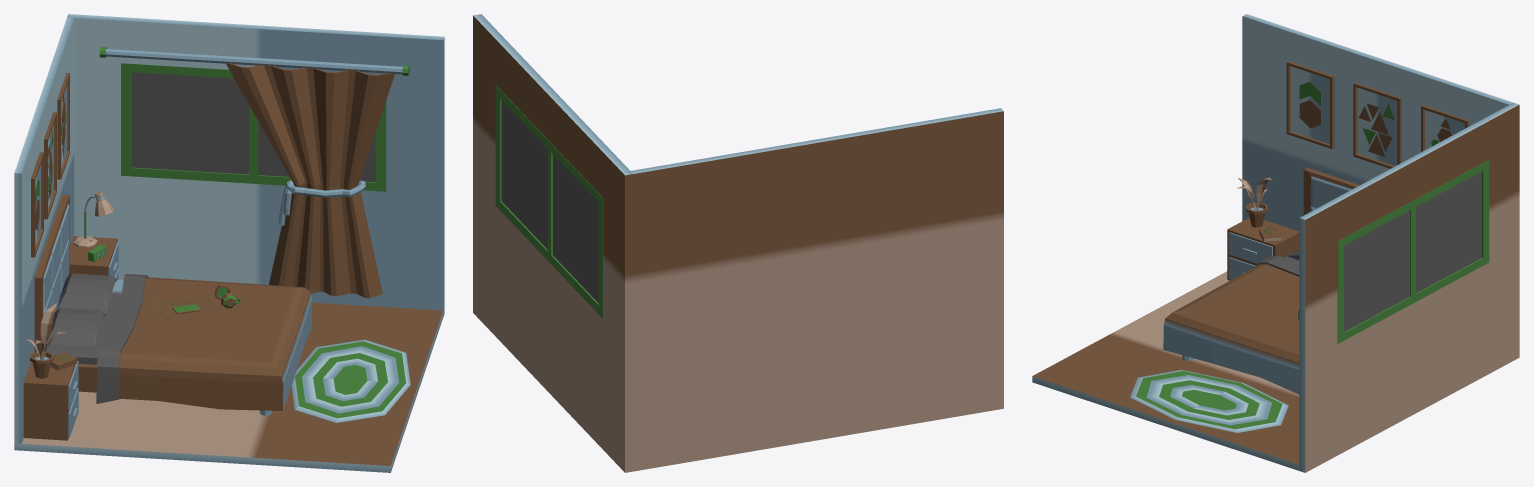
Rendered from Bedroom_1.fbx.
The picture shows the model from 3 angles, left to right: view 1: azimuth 30°, elevation 25°; view 2: azimuth 150°, elevation 25°; view 3: azimuth 270°, elevation 25°; orthographic projection. The views are drawn at different scales.
Visible parts, largest first — view 1: Bedroom_Base, Bedroom_Blanket, Bedroom_Curtain, Bedroom_Window, Bedroom_Carpet, Bedroom_Nightstands1, Bedroom_Basebed, Bedroom_Pillows, Bedroom_Cornice, Bedroom_Nightstands2, Bedroom_Mattress, Bedroom_Picture_1 (+6 smaller); view 2: Bedroom_Base, Bedroom_Window; view 3: Bedroom_Base, Bedroom_Window, Bedroom_Blanket, Bedroom_Carpet, Bedroom_Picture_1, Bedroom_Picture_3, Bedroom_Nightstands1, Bedroom_Basebed, Bedroom_Picture_2, Bedroom_Flower.
Boxes of the visible parts, left/top/right/bottom form: Bedroom_Base: left=14, top=14, right=444, bottom=472; Bedroom_Blanket: left=96, top=274, right=312, bottom=410; Bedroom_Curtain: left=226, top=63, right=394, bottom=297; Bedroom_Window: left=121, top=63, right=386, bottom=191; Bedroom_Carpet: left=291, top=339, right=410, bottom=422; Bedroom_Nightstands1: left=23, top=357, right=78, bottom=440; Bedroom_Basebed: left=34, top=195, right=272, bottom=415; Bedroom_Pillows: left=46, top=273, right=117, bottom=346; Bedroom_Cornice: left=99, top=47, right=409, bottom=75; Bedroom_Nightstands2: left=69, top=236, right=118, bottom=279; Bedroom_Mattress: left=44, top=279, right=123, bottom=364; Bedroom_Picture_1: left=44, top=112, right=56, bottom=219; Bedroom_Base: left=473, top=14, right=1003, bottom=472; Bedroom_Window: left=495, top=85, right=603, bottom=318; Bedroom_Base: left=1032, top=14, right=1519, bottom=472; Bedroom_Window: left=1337, top=160, right=1489, bottom=343; Bedroom_Blanket: left=1163, top=256, right=1299, bottom=394; Bedroom_Carpet: left=1130, top=369, right=1288, bottom=432; Bedroom_Picture_1: left=1353, top=82, right=1401, bottom=168; Bedroom_Picture_3: left=1286, top=61, right=1334, bottom=148; Bedroom_Nightstands1: left=1227, top=217, right=1299, bottom=280; Bedroom_Basebed: left=1182, top=168, right=1359, bottom=360; Bedroom_Picture_2: left=1421, top=105, right=1469, bottom=152; Bedroom_Flower: left=1237, top=177, right=1272, bottom=227.
Bounding box in the file's own units: 702 × 702 × 402.
